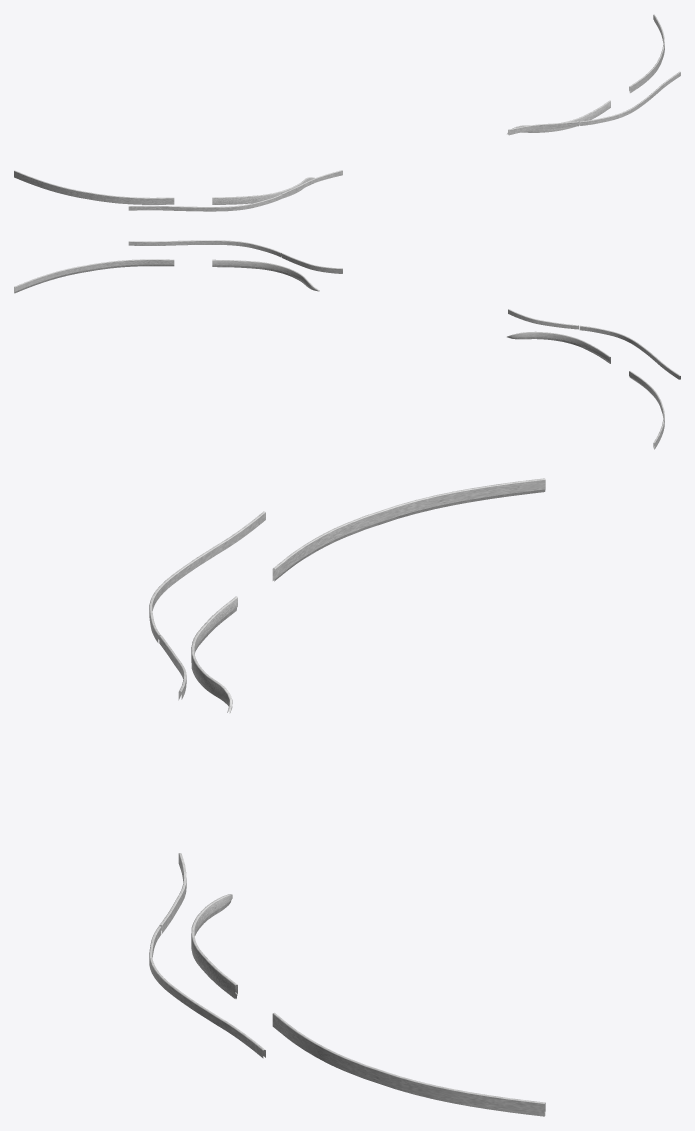
File: pref_sm_beach_winter_techglass_north_lv3.fbx
3 views of the same model, one above another, from view 1: azimuth 30°, elevation 25°; view 2: azimuth 150°, elevation 25°; view 3: azimuth 270°, elevation 25° (orthographic). The views are drawn at different scales.
Visible parts, largest first — view 1: sm_beach_winter_techglass_north_a_lv3, sm_beach_winter_techglass_north_b_lv3; view 2: sm_beach_winter_techglass_north_a_lv3, sm_beach_winter_techglass_north_b_lv3; view 3: sm_beach_winter_techglass_north_a_lv3, sm_beach_winter_techglass_north_b_lv3.
Boxes of the visible parts, box(x1,y1,x2,y2) form: sm_beach_winter_techglass_north_a_lv3: box(14, 14, 680, 211); sm_beach_winter_techglass_north_b_lv3: box(212, 100, 610, 204); sm_beach_winter_techglass_north_a_lv3: box(14, 240, 680, 449); sm_beach_winter_techglass_north_b_lv3: box(212, 259, 610, 363); sm_beach_winter_techglass_north_a_lv3: box(149, 478, 545, 1116); sm_beach_winter_techglass_north_b_lv3: box(191, 596, 237, 998).
Size of the model in its own units: 129 by 3.19 by 34.43.
